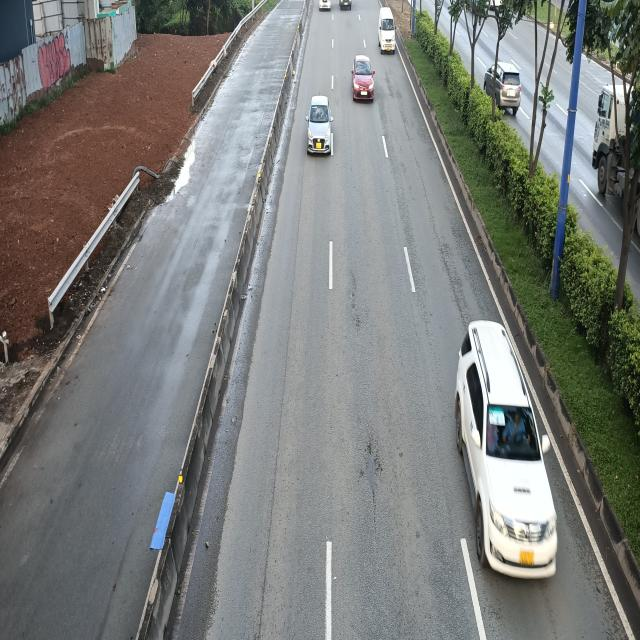car: (454, 317, 558, 580), (307, 95, 334, 155), (351, 54, 375, 102)
van: (378, 6, 397, 54)
